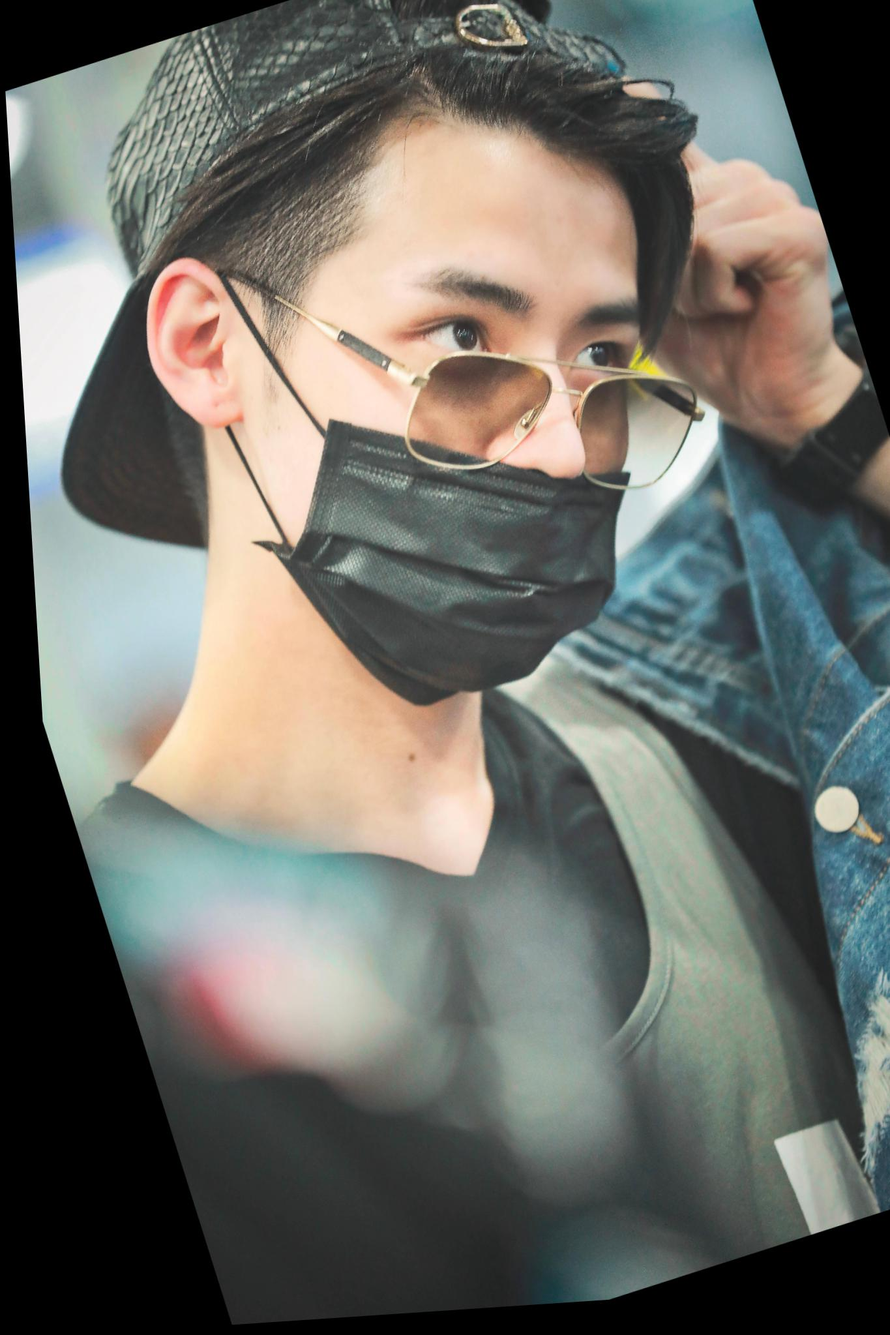WRONG: (218, 164, 725, 741)
